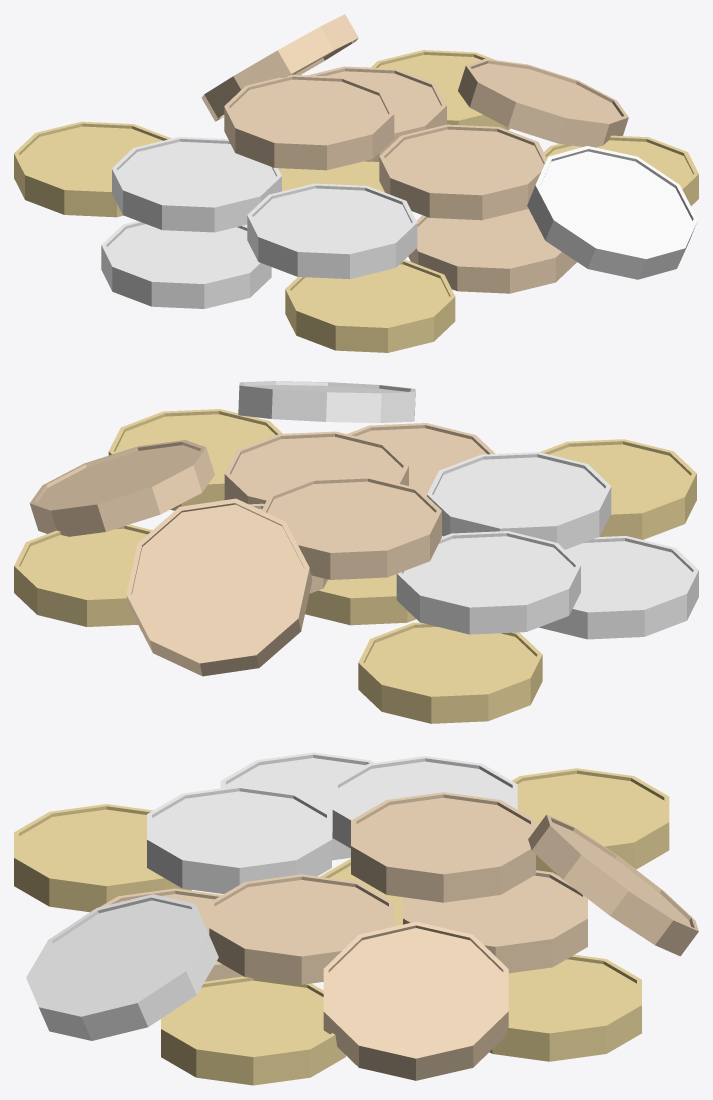
Rendered from PileOfCoins.fbx.
The picture shows the model from 3 angles, top to bottom: view 1: azimuth 30°, elevation 25°; view 2: azimuth 150°, elevation 25°; view 3: azimuth 270°, elevation 25°; orthographic projection. The views are drawn at different scales.
Visible parts, largest first — view 1: pCylinder16; view 2: pCylinder16; view 3: pCylinder16.
Part boxes in pixels (x1=…): pCylinder16: x1=14, y1=14, x2=698, y2=352; pCylinder16: x1=14, y1=381, x2=698, y2=723; pCylinder16: x1=14, y1=752, x2=698, y2=1085.
Size of the model in its own units: 0.8091 by 0.1651 by 0.7677.
